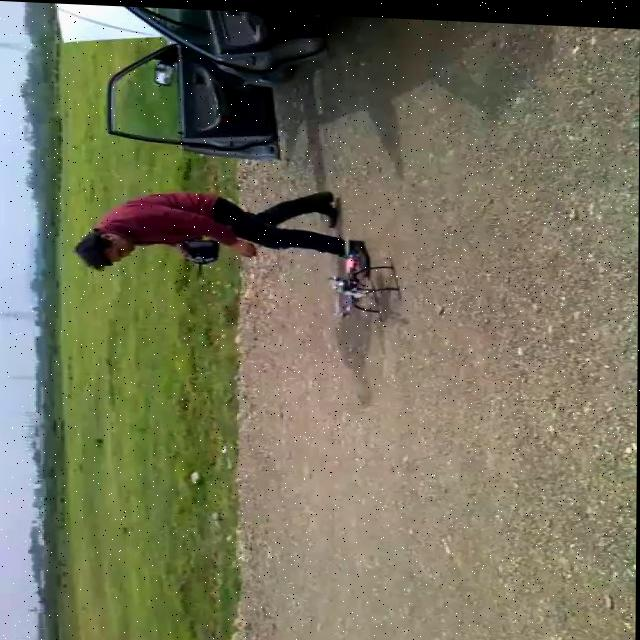drone: (322, 239, 395, 318)
